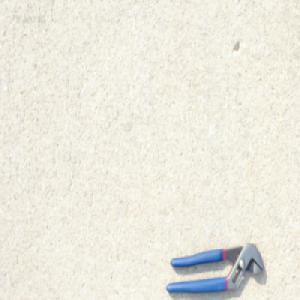Pliers: (165, 241, 265, 295)
